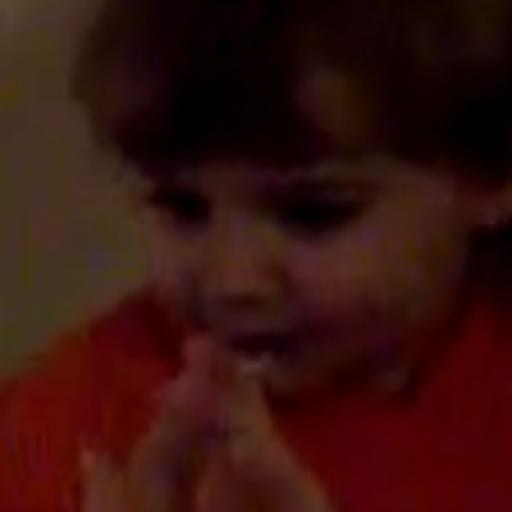Autism: (51, 43, 508, 407)
